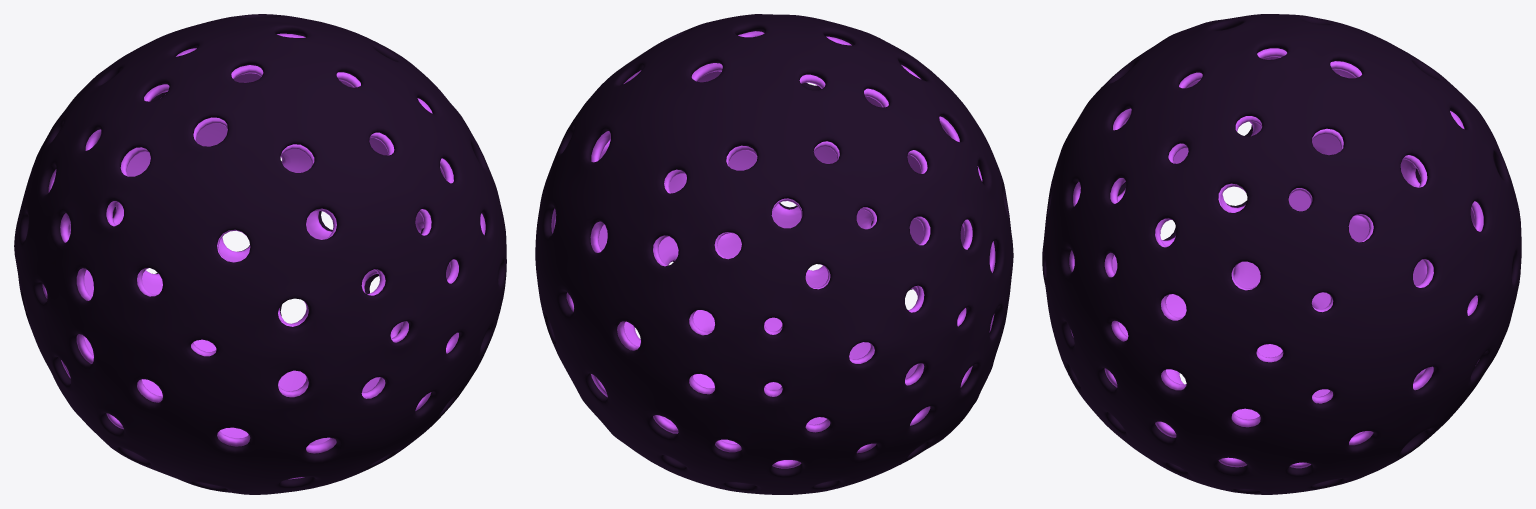
The model's file is nuclear_membrane_closed.fbx.
3 renders of one model, left to right at view 1: azimuth 30°, elevation 25°; view 2: azimuth 150°, elevation 25°; view 3: azimuth 270°, elevation 25°, orthographic.
Parts seen in each view (by area): view 1: Nuclear_Envelope_Outer, Nuclear_Envelope_Inner; view 2: Nuclear_Envelope_Outer, Nuclear_Envelope_Inner; view 3: Nuclear_Envelope_Outer, Nuclear_Envelope_Inner.
Boxes of the visible parts, x1=… form: Nuclear_Envelope_Outer: x1=14, y1=14, x2=506, y2=494; Nuclear_Envelope_Inner: x1=42, y1=33, x2=485, y2=479; Nuclear_Envelope_Outer: x1=535, y1=14, x2=1013, y2=494; Nuclear_Envelope_Inner: x1=551, y1=31, x2=995, y2=468; Nuclear_Envelope_Outer: x1=1042, y1=14, x2=1521, y2=494; Nuclear_Envelope_Inner: x1=1069, y1=48, x2=1483, y2=468.
Size of the model in its own units: 1086 by 1097 by 1090.
